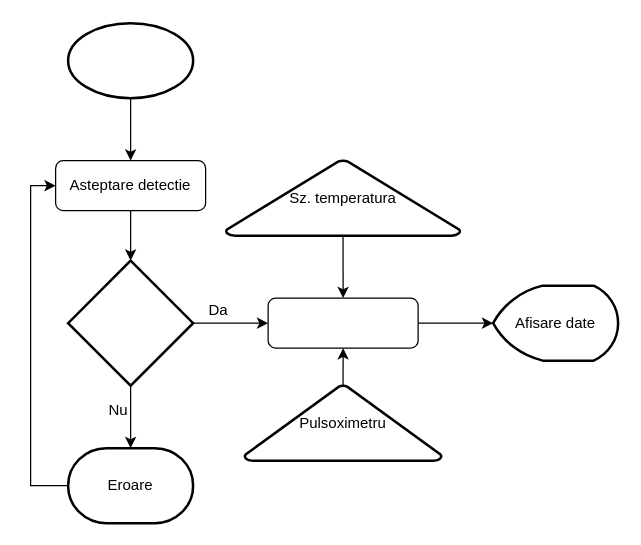
This 641x545 diagram has some shape labels left out. The shapes that lost their labels are listed below. From the top down, each one's box as (x1, y1, x2, y2) in pixels, then its label:
(66, 21, 194, 99): Pornire circuit
(66, 259, 194, 386): S-a realizat detectia?
(267, 297, 418, 348): Captura date din senzori
